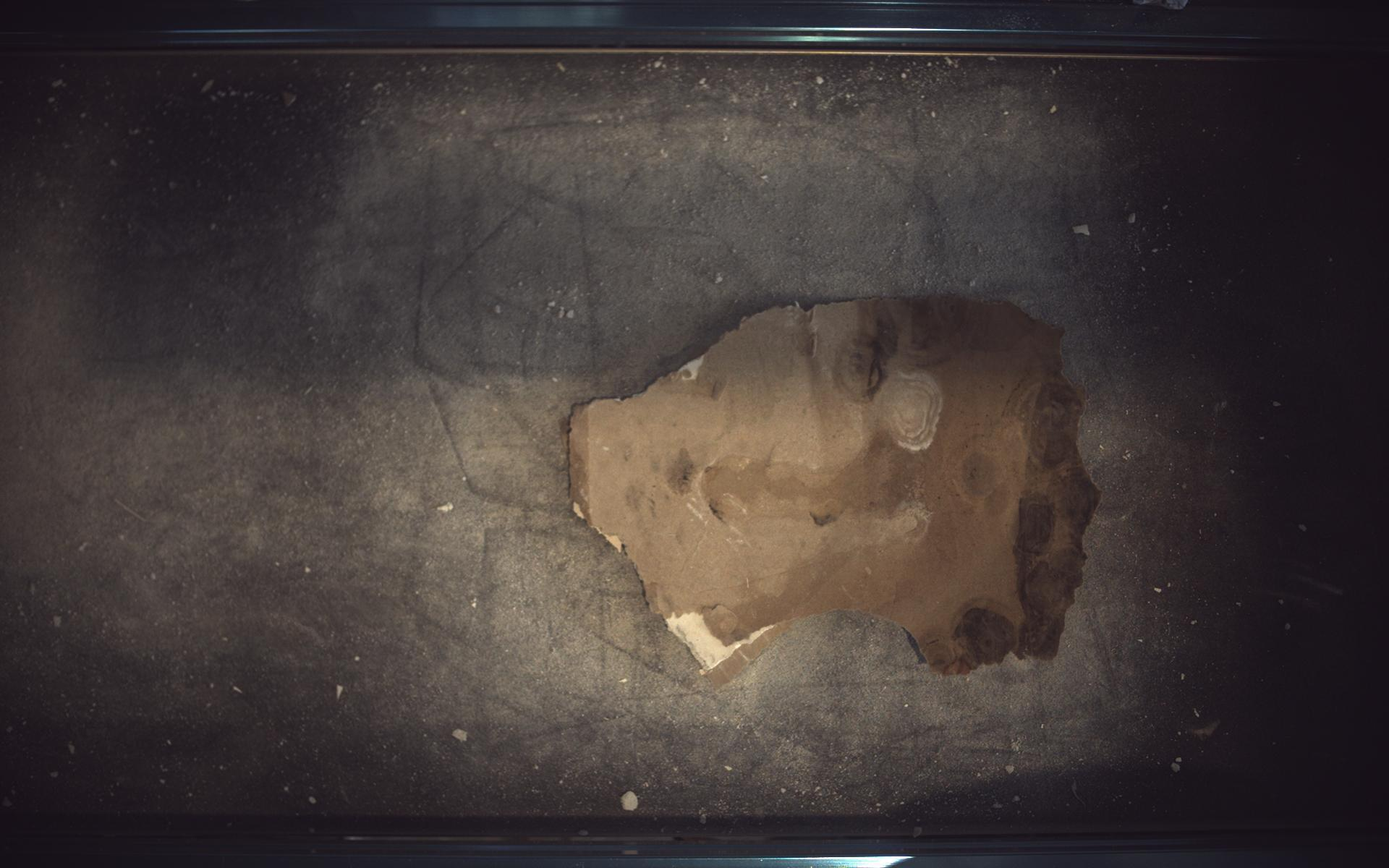gypsum_board: (570, 295, 1101, 686)
